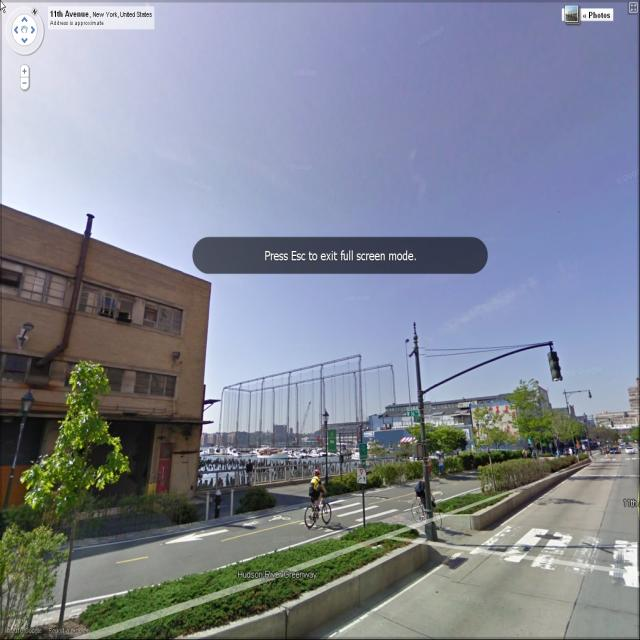b_1: (0, 197, 221, 514), (593, 404, 640, 445), (624, 377, 640, 404)
